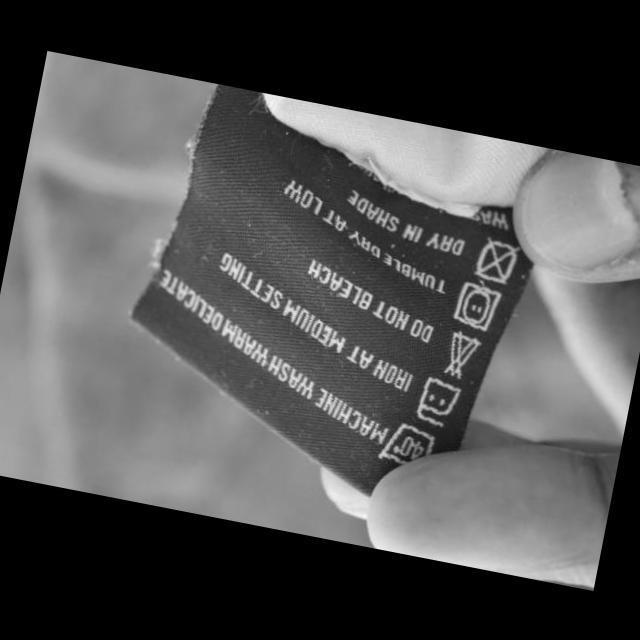40C: (372, 414, 442, 480)
DN_bleach: (437, 326, 485, 384)
DN_dry_clean: (467, 232, 524, 290)
iron_medium: (411, 372, 466, 432)
tumble_dry_medium: (446, 274, 505, 337)
